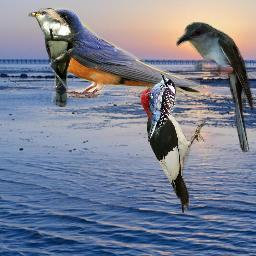Cuckoo: (176, 22, 255, 152), (28, 8, 76, 107)
Swallow: (38, 5, 201, 104)
Woodpecker: (139, 81, 206, 213), (137, 70, 181, 146)
